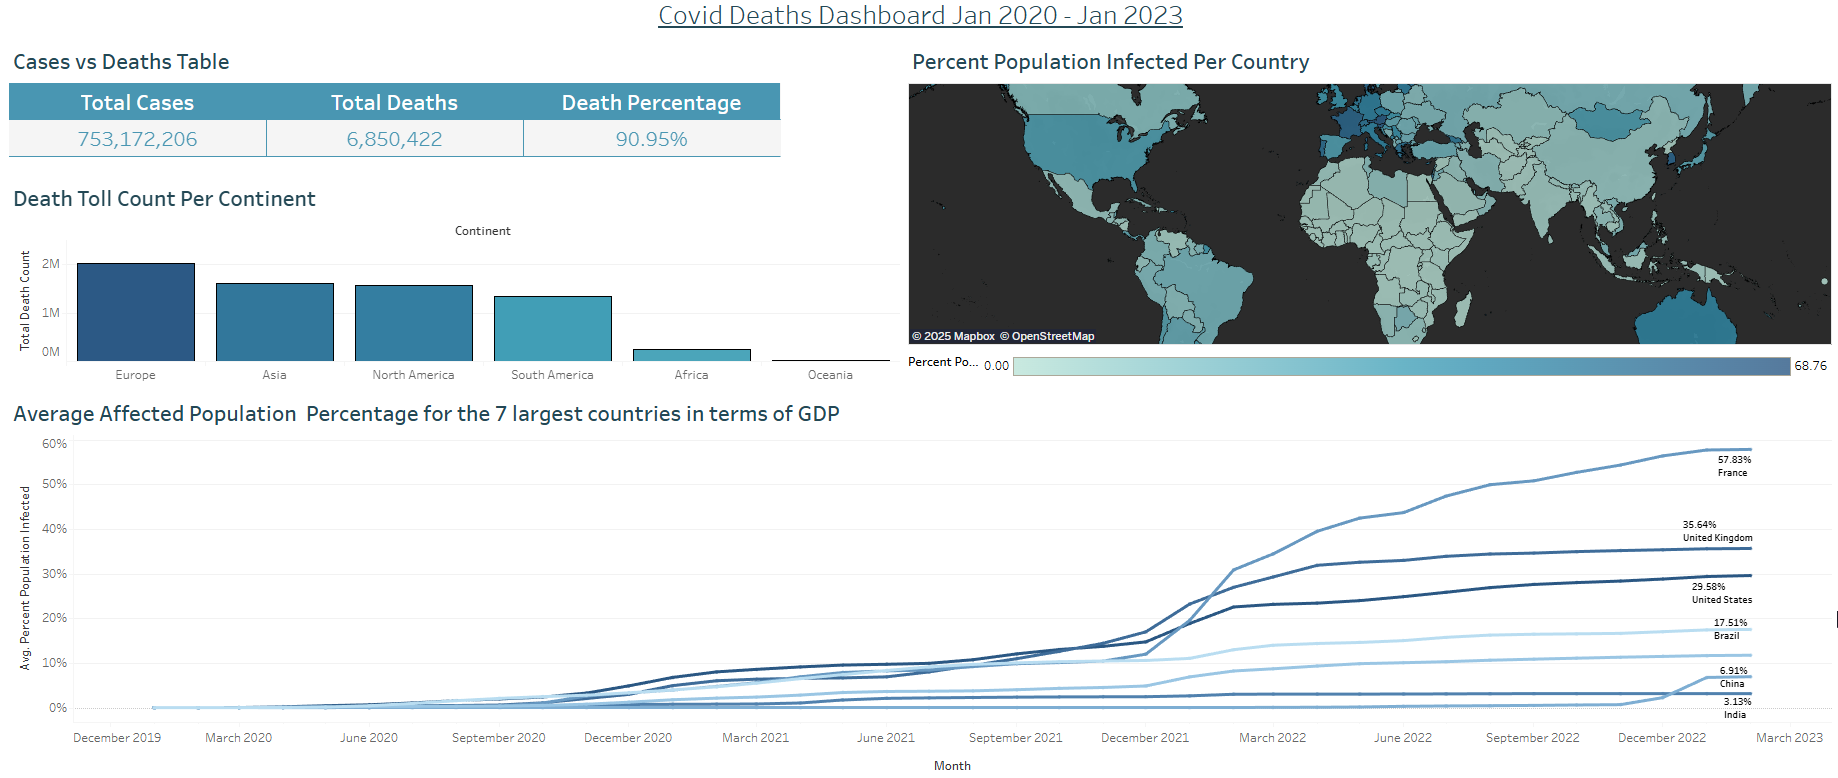

The page's visual inventory and layout, read from the dashboard file:
{"tool":"tableau","page":{"name":"Dashboard 1","canvas":[1000,1000],"units":"permille","ordinal":0},"visuals":[{"type":"title","box":[4.8,10.7,990.5,57.6]},{"type":"worksheet","title":"Sheet 1","mark":"Automatic","box":[4.8,68.3,486.3,168.4]},{"type":"worksheet","title":"Sheet 3","mark":"Automatic","box":[491.1,68.3,504.2,386.3]},{"type":"worksheet","title":"Sheet 2","mark":"Automatic","rows":["TotalDeathCount"],"cols":["location"],"box":[4.8,236.7,486.3,264.9]},{"type":"legend","title":"Sheet 3","param":"[federated.18dmrqg1raym5g13f0zzi018gelm].[sum:PercentPopulationInfected:qk]","box":[491.1,454.6,504.2,47]},{"type":"worksheet","title":"Sheet 4","mark":"Automatic","rows":["PercentPopulationInfected"],"cols":["date"],"box":[4.8,501.6,990.5,487.7]}]}

Visuals, with their boxes on the dashboard's canvas, which has no fixed pixel size, in thousandths of its width and height (x1, y1, x2, y2). These are canvas units, not pixel positions in the 1838x778 screenshot, which may show the page scaled, cropped or inside an application window:
title: left=5, top=11, right=995, bottom=68
"Sheet 1" worksheet: left=5, top=68, right=491, bottom=237
"Sheet 3" worksheet: left=491, top=68, right=995, bottom=455
"Sheet 2" worksheet: left=5, top=237, right=491, bottom=502
"Sheet 3" legend: left=491, top=455, right=995, bottom=502
"Sheet 4" worksheet: left=5, top=502, right=995, bottom=989
